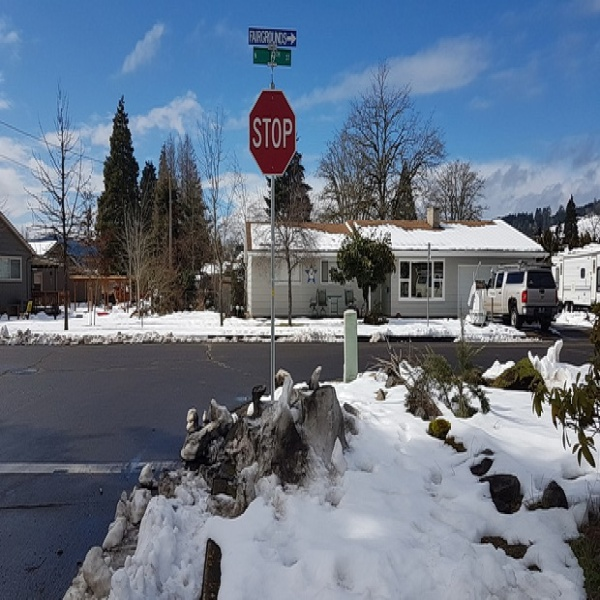stop: (250, 92, 295, 176)
